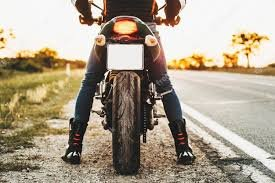motor: (91, 10, 164, 167)
